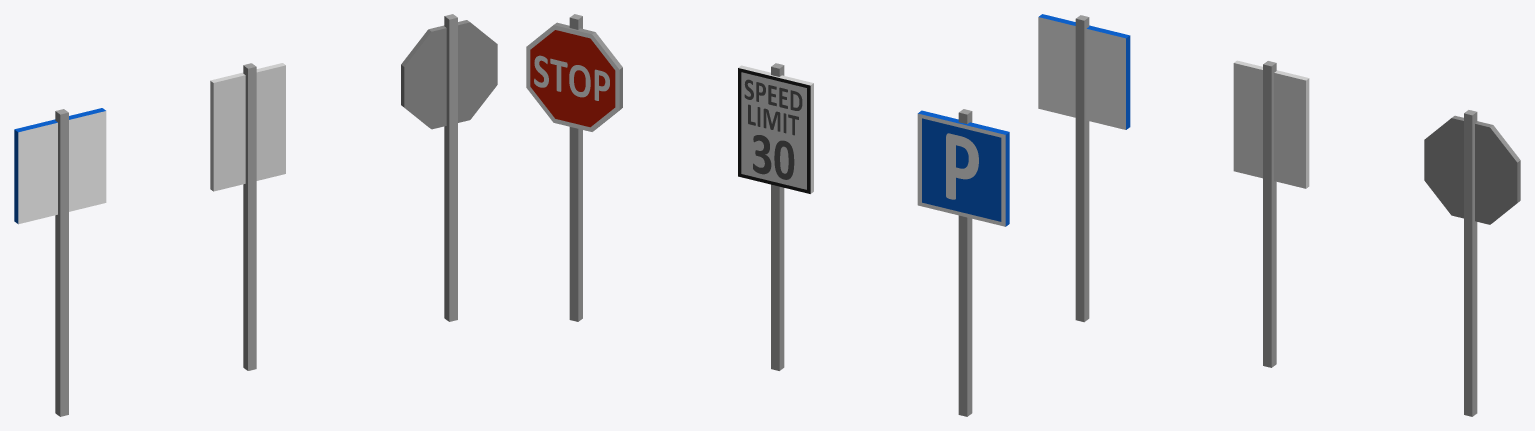
File: Road signs.fbx
3 views of the same model, side by side, from view 1: azimuth 30°, elevation 25°; view 2: azimuth 150°, elevation 25°; view 3: azimuth 330°, elevation 25° (orthographic).
Visible parts, largest first — view 1: Cube.003, Cube.002, Cylinder, Cube, Cube.001, Cube.004; view 2: Cube.003, Cylinder, Cube.002, Cube.004, Cube, Cube.001, Text.004, Text, Text.003, Text.001, Text.002; view 3: Cube.003, Cube.002, Cylinder, Cube.004, Cube, Cube.001.
Boxes of the visible parts, x1,y1,x2,y2 form: Cube.003: [14, 108, 106, 224]; Cube.002: [210, 63, 285, 191]; Cylinder: [401, 20, 497, 129]; Cube: [444, 14, 457, 321]; Cube.001: [243, 63, 256, 370]; Cube.004: [55, 109, 68, 416]; Cube.003: [917, 110, 1009, 226]; Cylinder: [526, 22, 622, 131]; Cube.002: [738, 65, 813, 193]; Cube.004: [958, 109, 972, 416]; Cube: [569, 14, 582, 321]; Cube.001: [771, 63, 784, 370]; Text.004: [946, 133, 978, 199]; Text: [534, 55, 609, 100]; Text.003: [753, 135, 794, 179]; Text.001: [744, 79, 802, 110]; Text.002: [748, 104, 798, 135]; Cube.003: [1038, 14, 1130, 129]; Cube.002: [1233, 60, 1309, 188]; Cylinder: [1424, 115, 1520, 224]; Cube.004: [1075, 15, 1089, 322]; Cube: [1464, 110, 1477, 416]; Cube.001: [1263, 61, 1276, 367].
Size of the model in its own units: 595 by 358 by 14.55.
